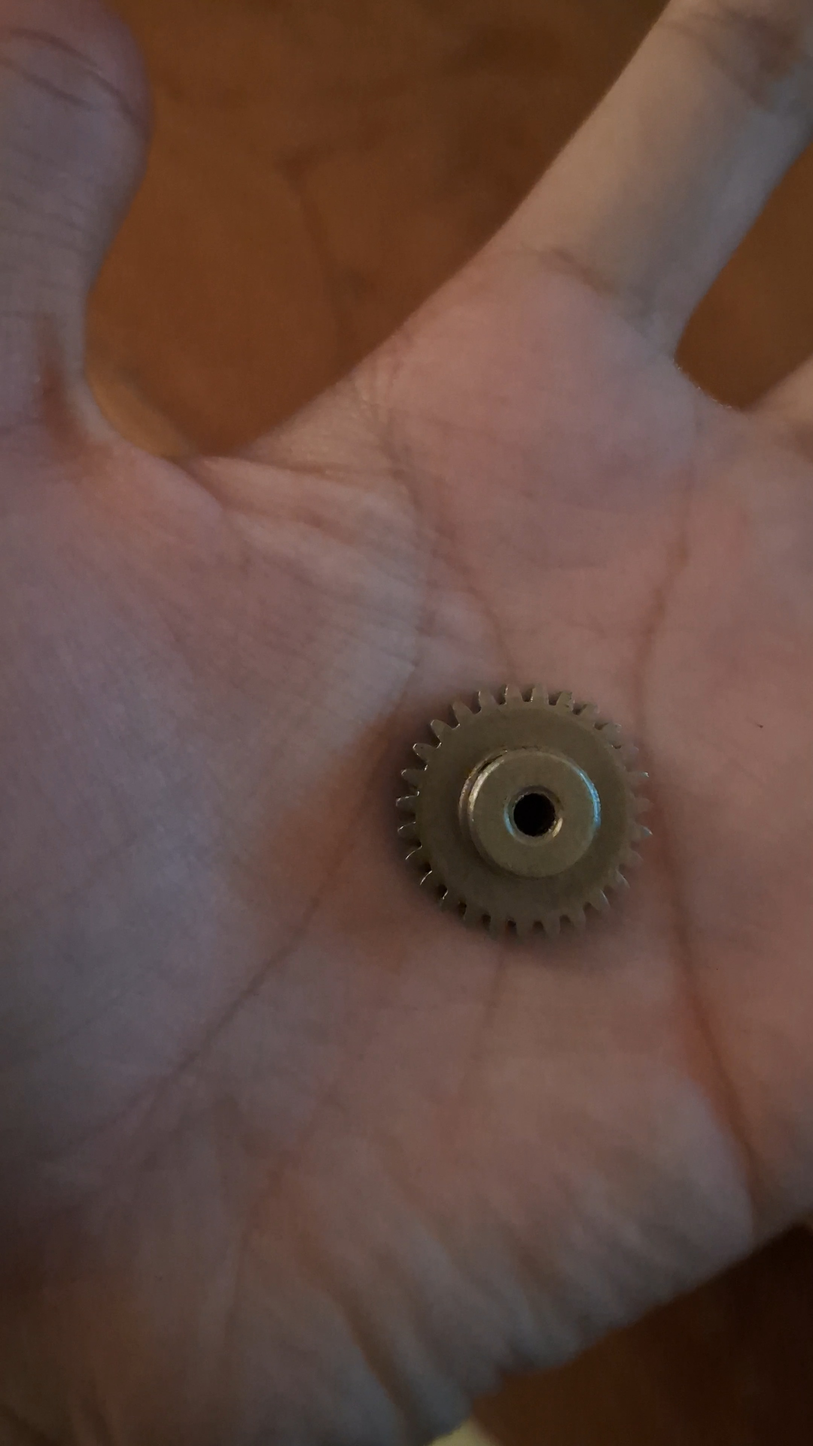spur gear: (397, 686, 647, 936)
